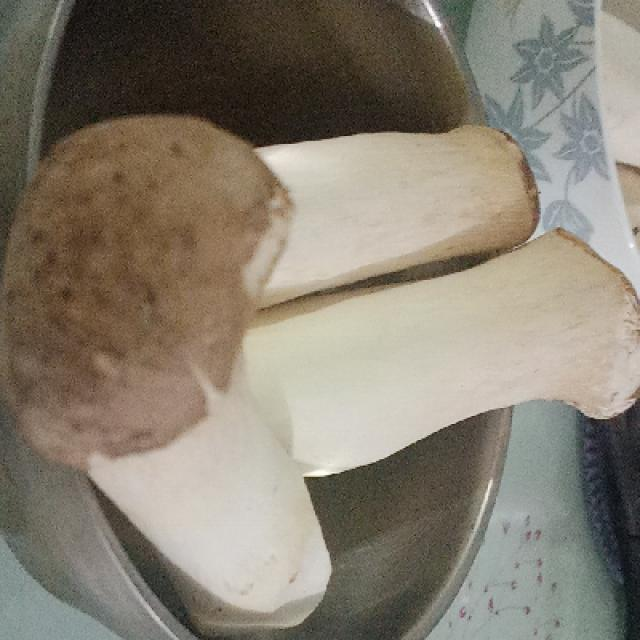Pleurotus eryngii: (21, 118, 340, 637), (214, 239, 638, 462), (168, 92, 568, 295)
